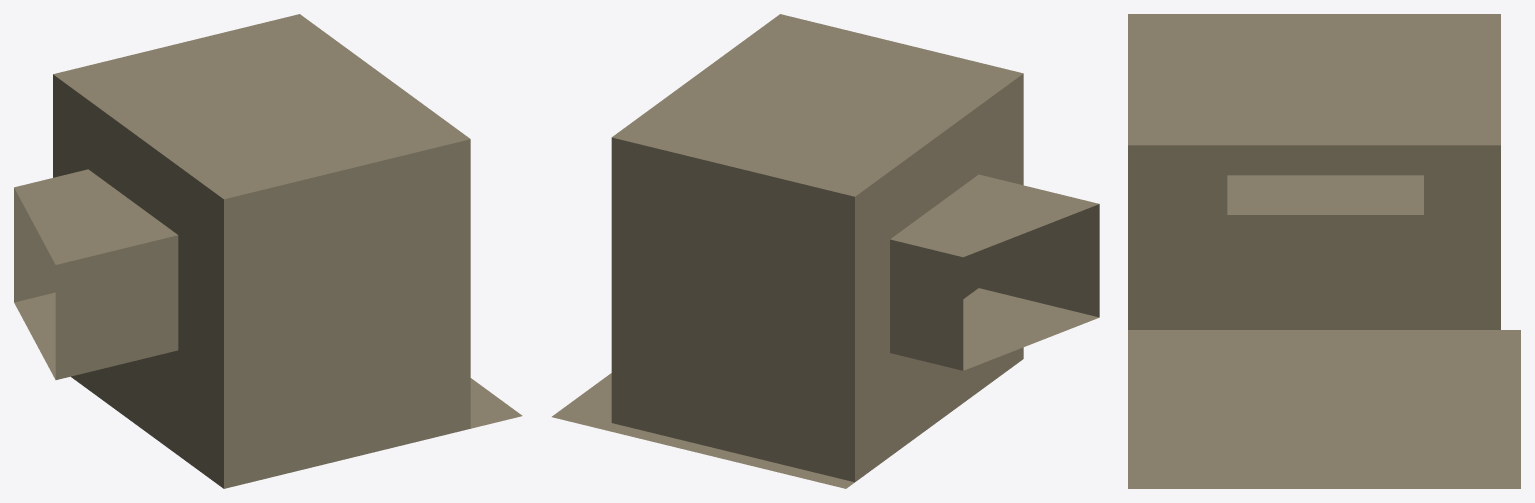
File: Hab3.glb
3 views of the same model, side by side, from view 1: azimuth 30°, elevation 25°; view 2: azimuth 150°, elevation 25°; view 3: azimuth 270°, elevation 25° (orthographic). The views are drawn at different scales.
Visible parts, largest first — view 1: Hab3; view 2: Hab3; view 3: Hab3.
Boxes of the visible parts, x1,y1,x2,y2 form: Hab3: [14, 14, 522, 488]; Hab3: [552, 14, 1099, 488]; Hab3: [1128, 14, 1520, 488].
Bounding box in the file's own units: 3.45 × 2.26 × 2.55.
